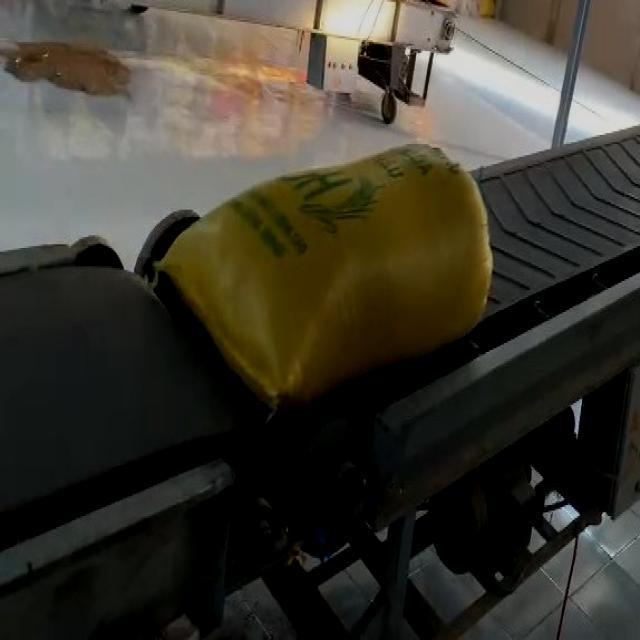gunny_bag: (159, 144, 494, 411)
